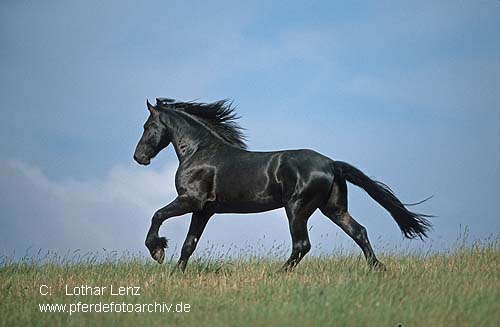horse: (115, 84, 437, 286)
